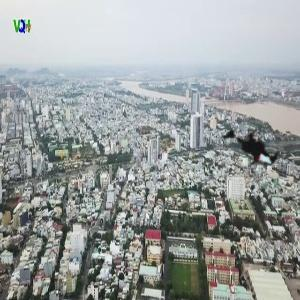drone: (201, 105, 297, 201)
